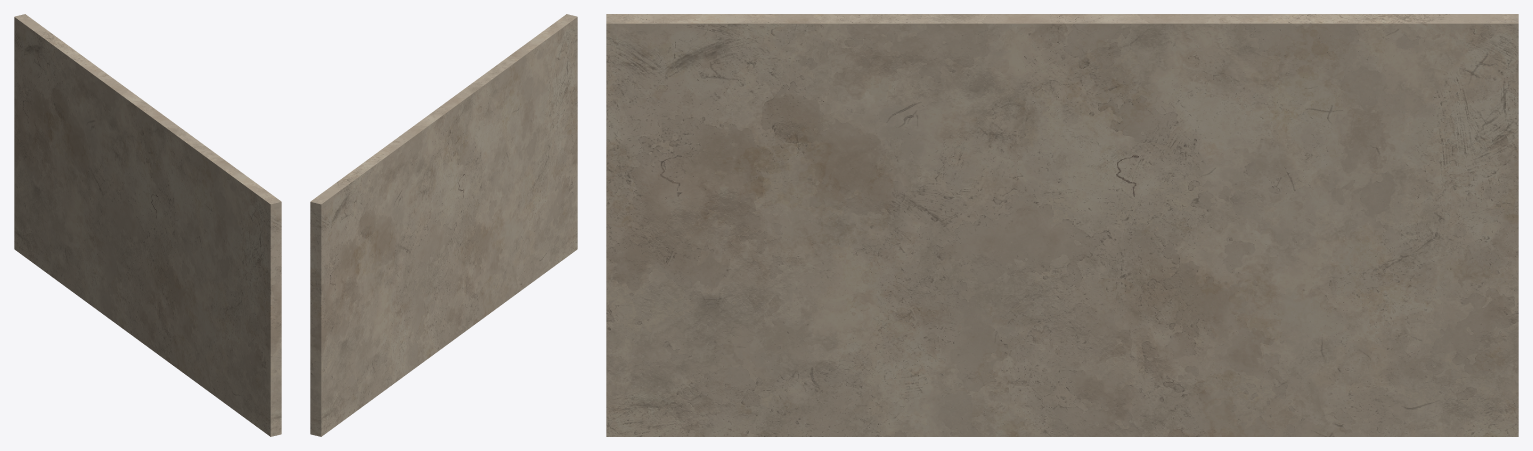
The model's file is SM_Wall_03.fbx.
3 views of the same model, side by side, from view 1: azimuth 30°, elevation 25°; view 2: azimuth 150°, elevation 25°; view 3: azimuth 270°, elevation 25° (orthographic). The views are drawn at different scales.
Visible parts, largest first — view 1: SM_Wall_03_LOD0; view 2: SM_Wall_03_LOD0; view 3: SM_Wall_03_LOD0.
Part boxes in pixels (x1,y1,x2,y2): SM_Wall_03_LOD0: [14, 14, 281, 436]; SM_Wall_03_LOD0: [310, 14, 577, 436]; SM_Wall_03_LOD0: [606, 14, 1518, 436].
Bounding box in the file's own units: 10 × 400 × 200.
